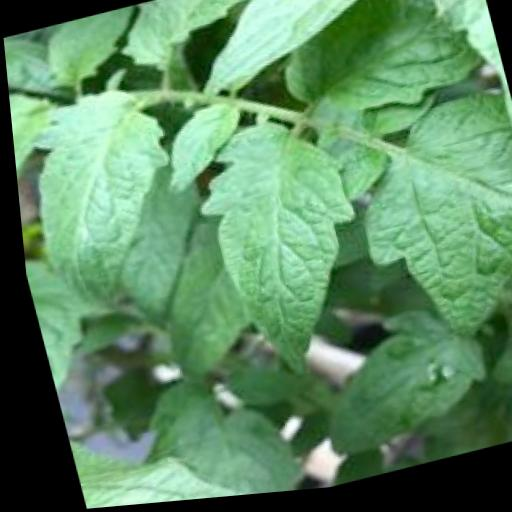Healthy: (180, 106, 385, 395), (334, 100, 512, 419), (7, 81, 203, 329), (271, 0, 495, 140), (174, 0, 448, 101), (144, 97, 255, 199), (37, 7, 149, 90)
